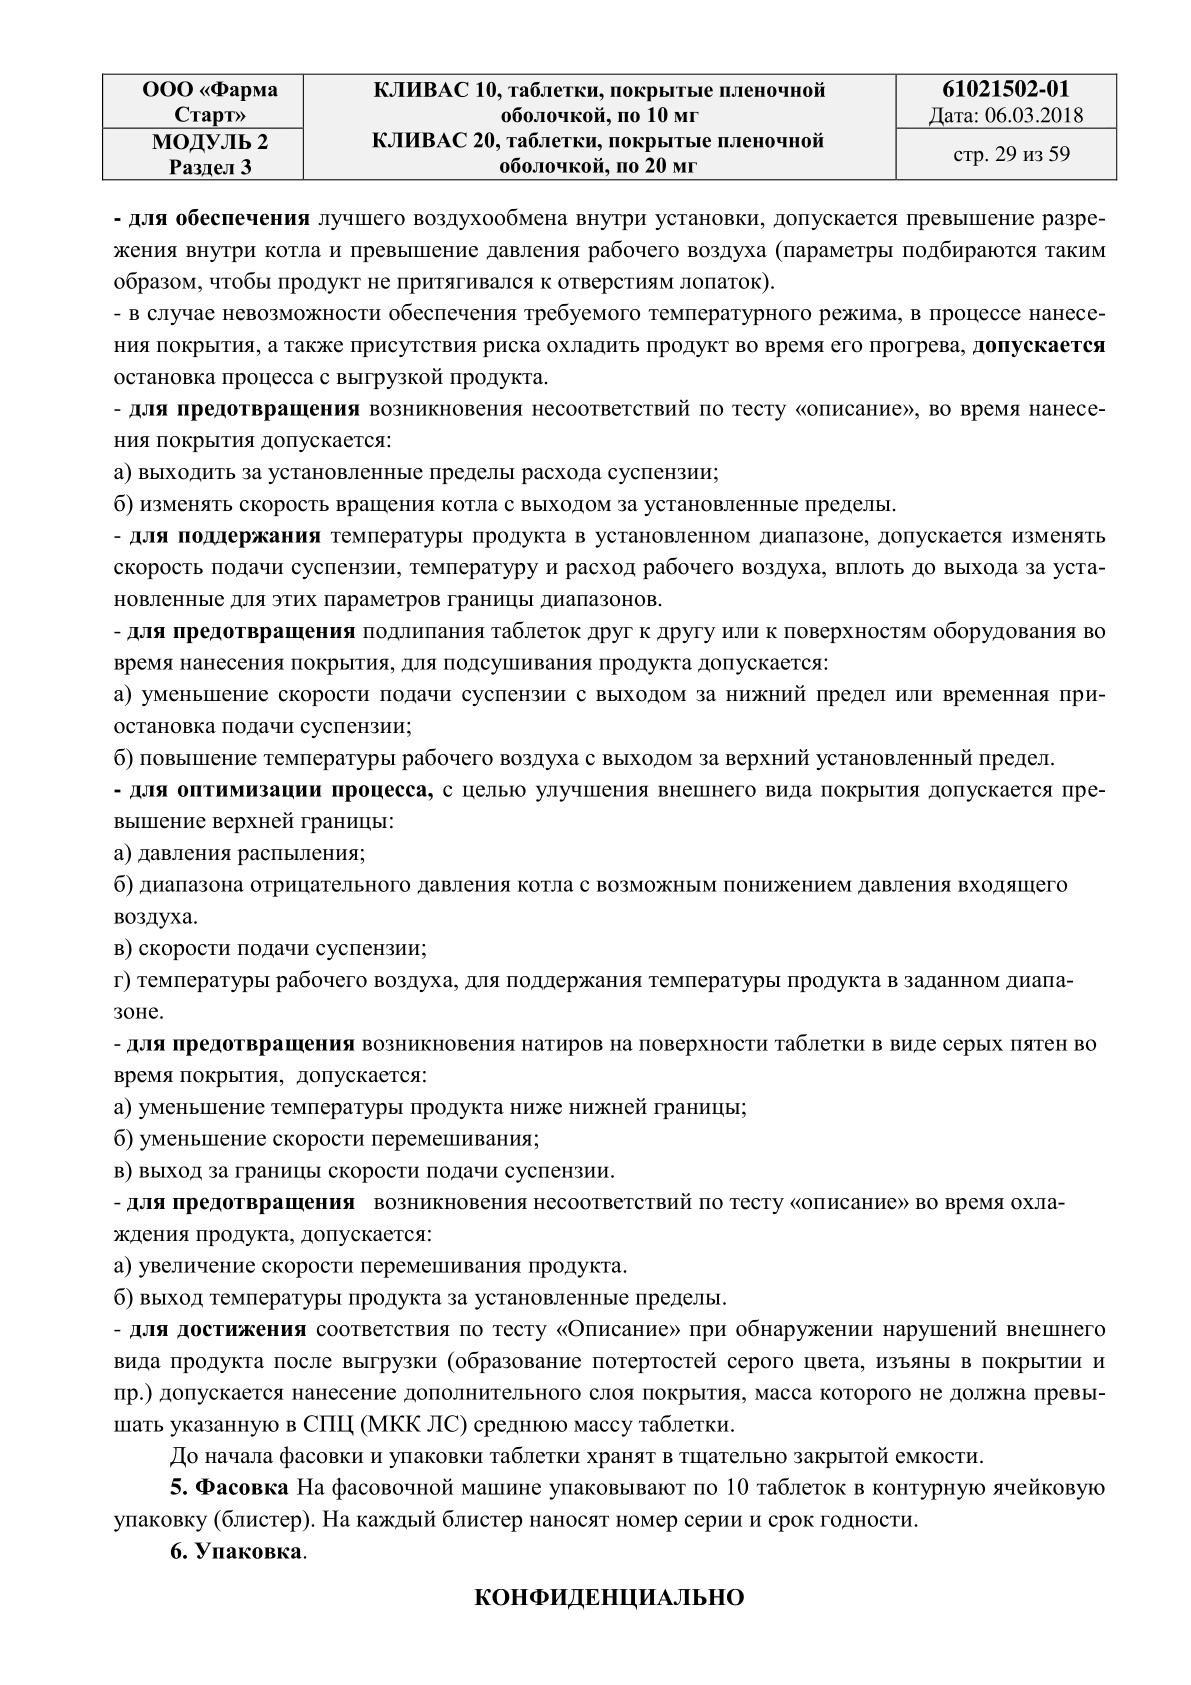merged_cells: (101, 72, 1118, 182)
